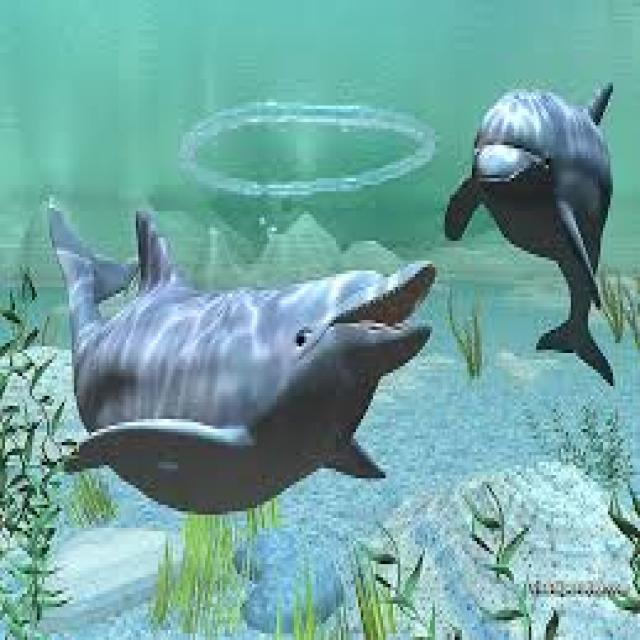dolphin: (37, 198, 432, 511), (470, 66, 616, 396)
